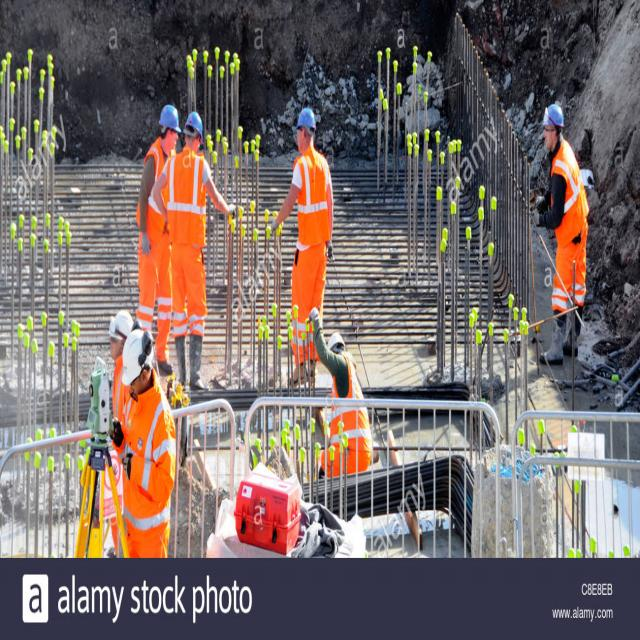Reflective-Jacket: (121, 390, 177, 552), (550, 143, 586, 308), (167, 151, 208, 253), (294, 151, 333, 252)
Safety-Helmet: (121, 326, 154, 382), (158, 100, 182, 134), (544, 100, 565, 131), (296, 105, 318, 132), (184, 108, 203, 137)
